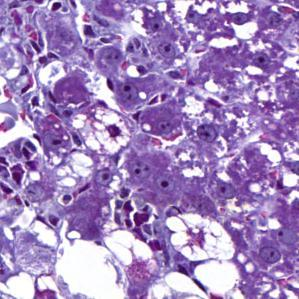ballooning: (163, 211, 238, 265), (73, 98, 134, 159)
